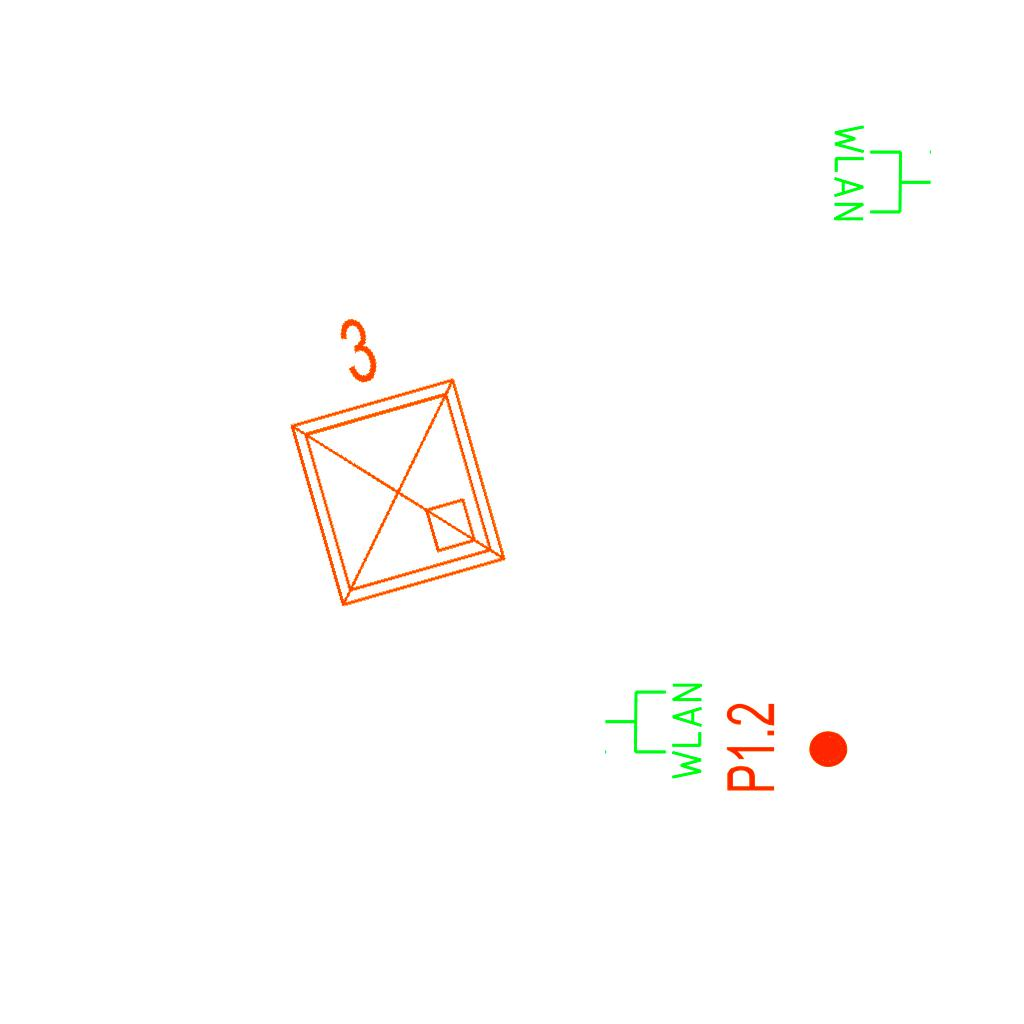Downlight_LED_Einbauleuchten_Flur: (723, 701, 851, 794)
Einbaudownlights_LED_Konferenzraeume: (241, 281, 525, 627)
WLAN: (830, 120, 934, 225), (602, 679, 706, 784)
